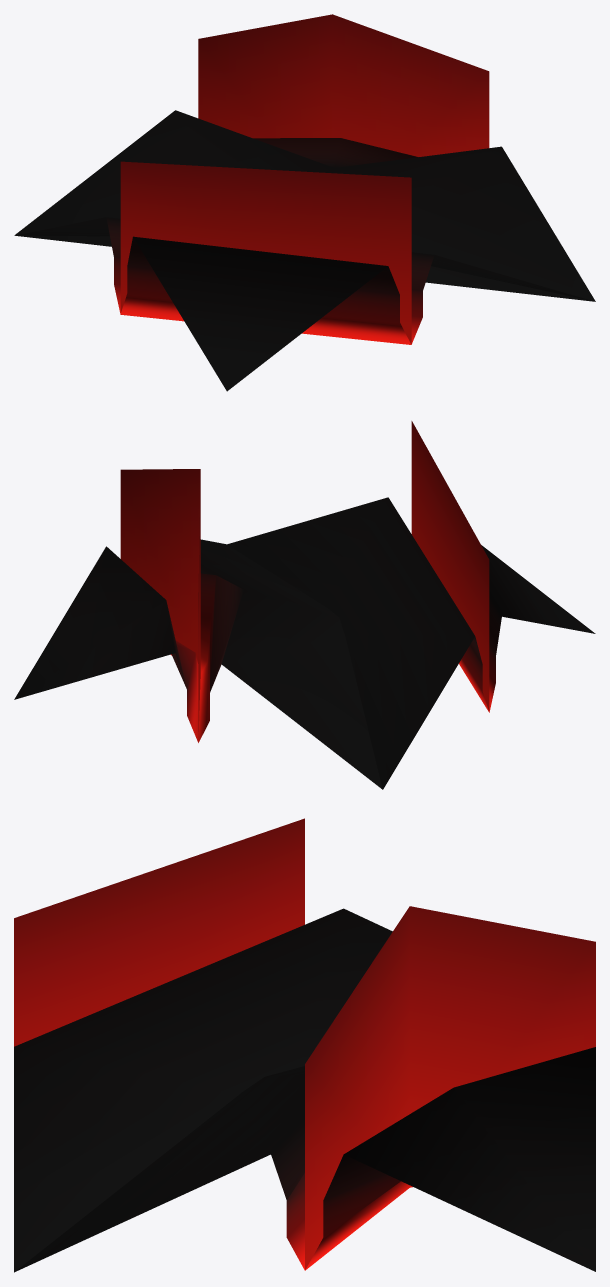
3 views of the same model, one above another, from view 1: azimuth 30°, elevation 25°; view 2: azimuth 150°, elevation 25°; view 3: azimuth 270°, elevation 25° (orthographic). The views are drawn at different scales.
Visible parts, largest first — view 1: 9267; view 2: 9267; view 3: 9267.
Part boxes in pixels (bbox=[...]): 9267: bbox=[14, 14, 595, 391]; 9267: bbox=[14, 421, 595, 789]; 9267: bbox=[14, 818, 595, 1272].
Size of the model in its own units: 128 by 70.03 by 128.
